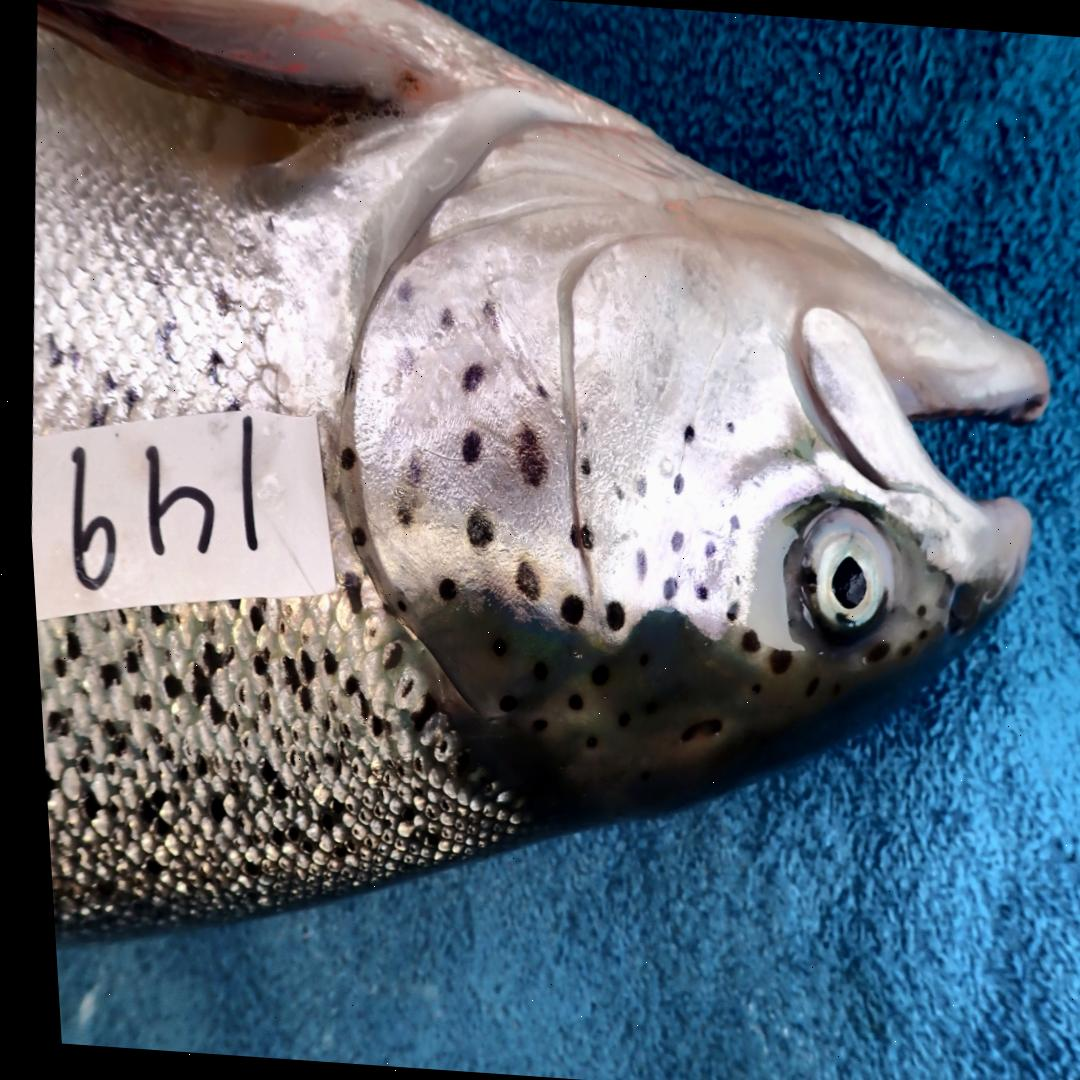spot: (510, 426, 542, 486), (460, 509, 487, 548), (508, 559, 532, 602), (552, 595, 576, 625), (455, 431, 475, 464), (456, 363, 479, 390), (477, 300, 494, 334), (598, 601, 616, 631), (429, 577, 449, 601), (333, 447, 351, 470), (393, 346, 407, 373), (654, 576, 670, 599), (401, 457, 414, 484), (628, 550, 640, 579), (389, 504, 404, 527), (662, 531, 676, 552), (574, 526, 586, 550), (394, 280, 408, 300), (437, 307, 450, 328), (686, 583, 700, 602), (717, 602, 728, 623), (666, 473, 677, 493), (562, 524, 570, 549), (630, 476, 639, 497), (575, 459, 586, 475), (698, 540, 707, 558), (531, 383, 541, 399), (723, 515, 733, 529), (678, 426, 687, 441), (608, 484, 616, 500), (720, 420, 728, 433), (574, 420, 581, 434), (726, 576, 733, 586)
